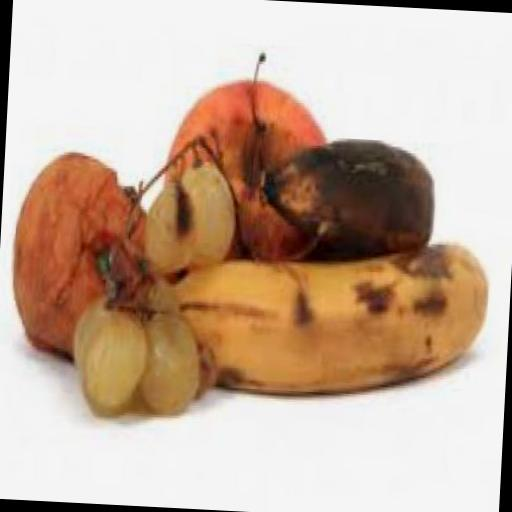biodegradable: (166, 228, 489, 409), (158, 74, 332, 262), (8, 144, 152, 364), (254, 132, 436, 275), (80, 307, 150, 406), (138, 310, 202, 411), (176, 156, 235, 260), (142, 179, 197, 274), (70, 290, 119, 372), (140, 271, 178, 312)
